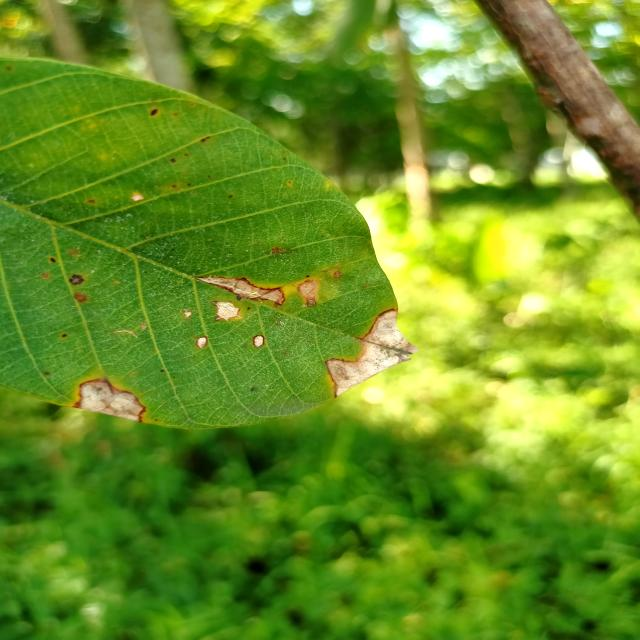Colletotrichum: (151, 109, 158, 116), (236, 296, 242, 301), (171, 158, 176, 163), (51, 258, 56, 263), (61, 334, 68, 337), (187, 182, 191, 186), (172, 184, 176, 188), (228, 195, 232, 198), (288, 181, 292, 184)
Leaf-Blight: (328, 310, 416, 397), (79, 382, 141, 422), (200, 277, 284, 304), (299, 280, 318, 300), (217, 302, 238, 320), (196, 337, 207, 348), (254, 336, 263, 346)
